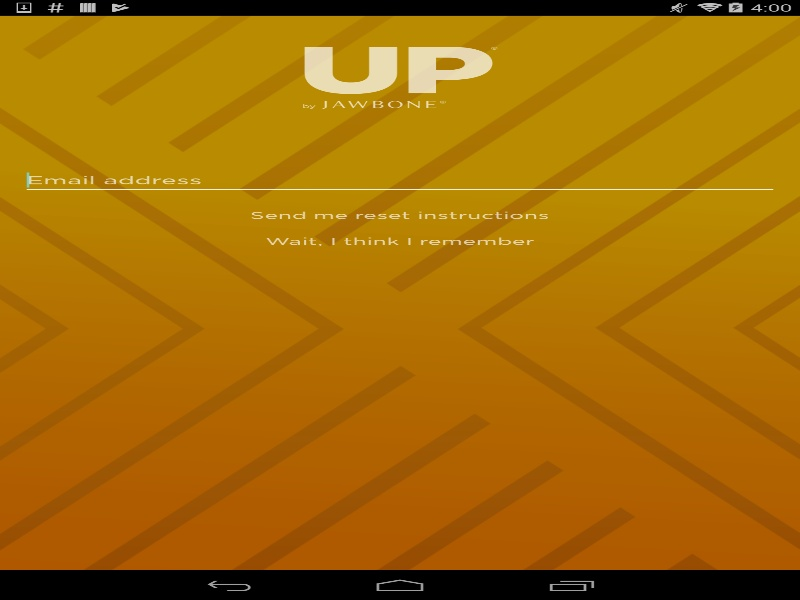Input: (26, 172, 773, 187)
